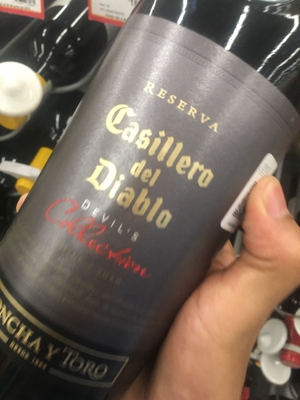casillero del diablo devils collection rojo: (9, 7, 293, 383)
